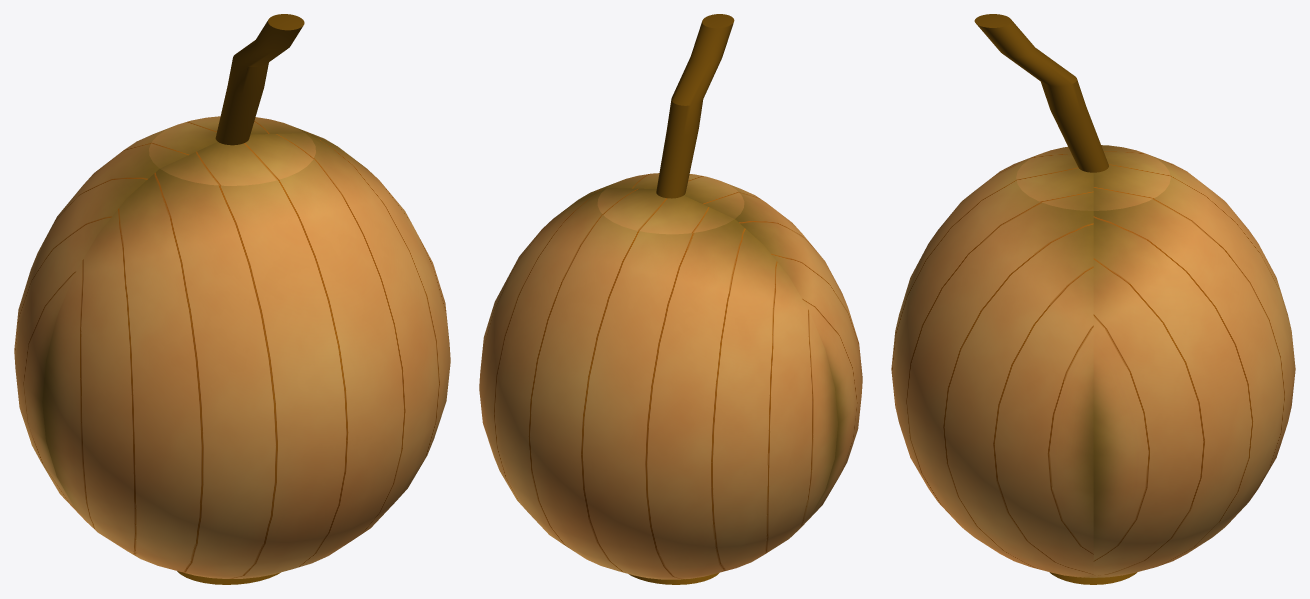
The model's file is _nion.fbx.
3 views of the same model, side by side, from view 1: azimuth 30°, elevation 25°; view 2: azimuth 150°, elevation 25°; view 3: azimuth 270°, elevation 25° (orthographic). The views are drawn at different scales.
Visible parts, largest first — view 1: Sphere.002; view 2: Sphere.002; view 3: Sphere.002.
Boxes of the visible parts, x1,y1,x2,y2 form: Sphere.002: (14,14,450,584); Sphere.002: (479,14,862,584); Sphere.002: (891,14,1295,584).
Bounding box in the file's own units: 33.88 × 49.43 × 33.42.
Materials: 2 (1 with a texture image).
